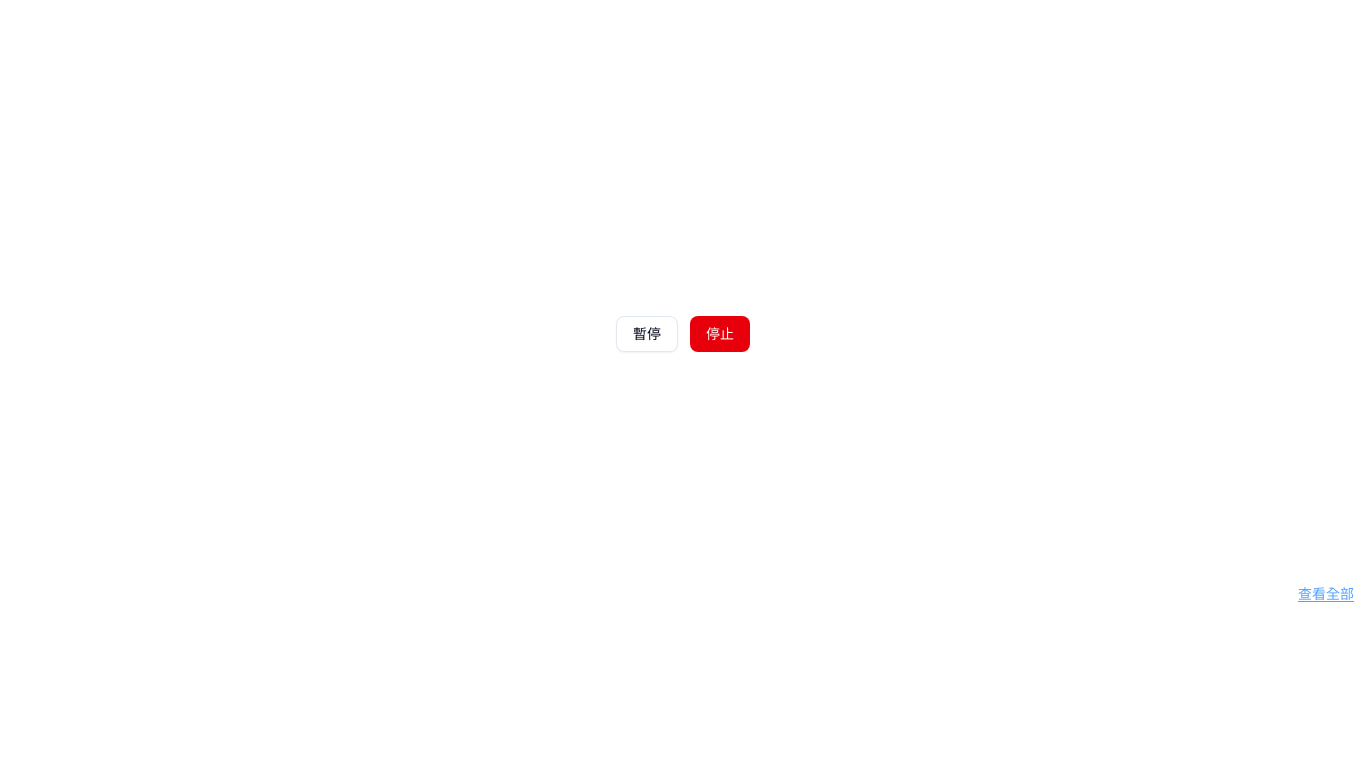
Scenario: App › TaskDialog 整合 › 儲存任務後應關閉對話框並重新載入任務
Click the button "停止" at coordinates (720, 334), box [690,316,750,352]
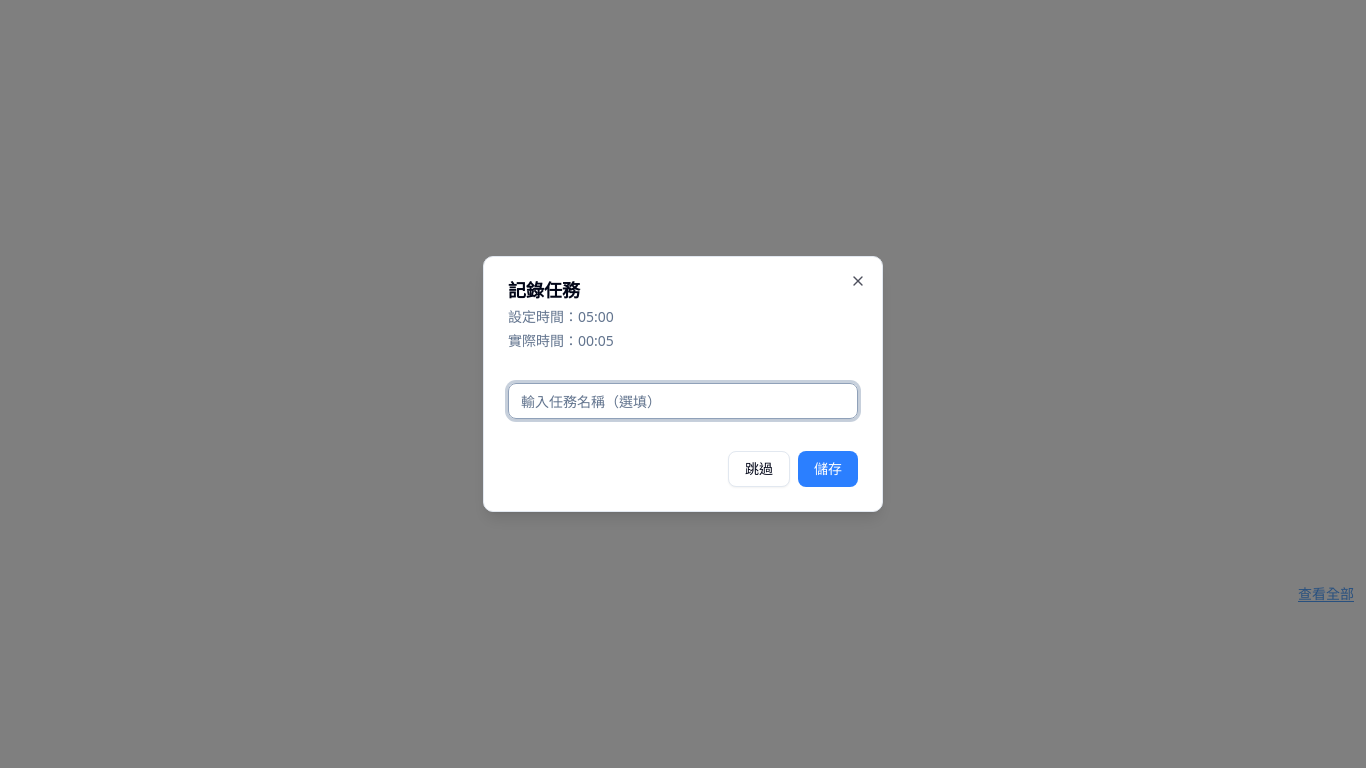
Click the button "儲存" at coordinates (828, 469), box [798,451,858,487]
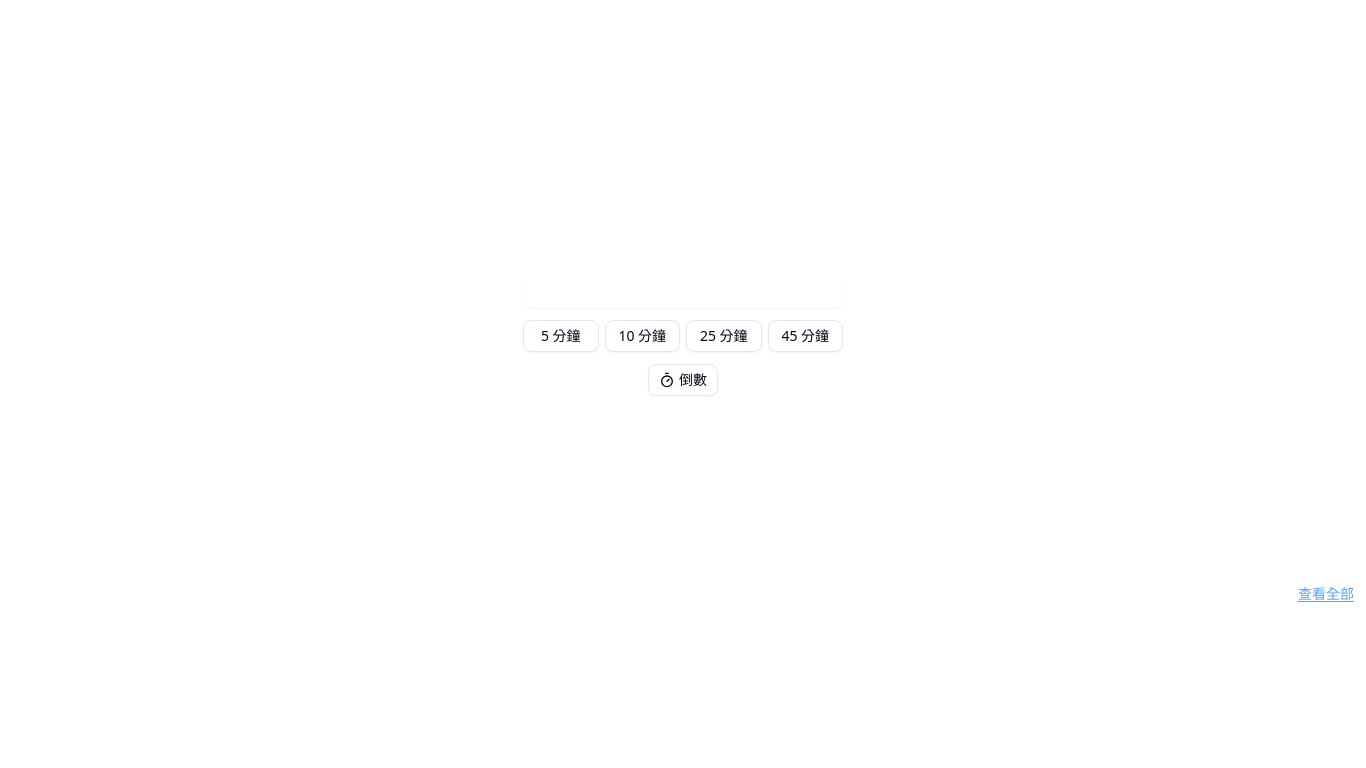
Result: the dialog is gone
